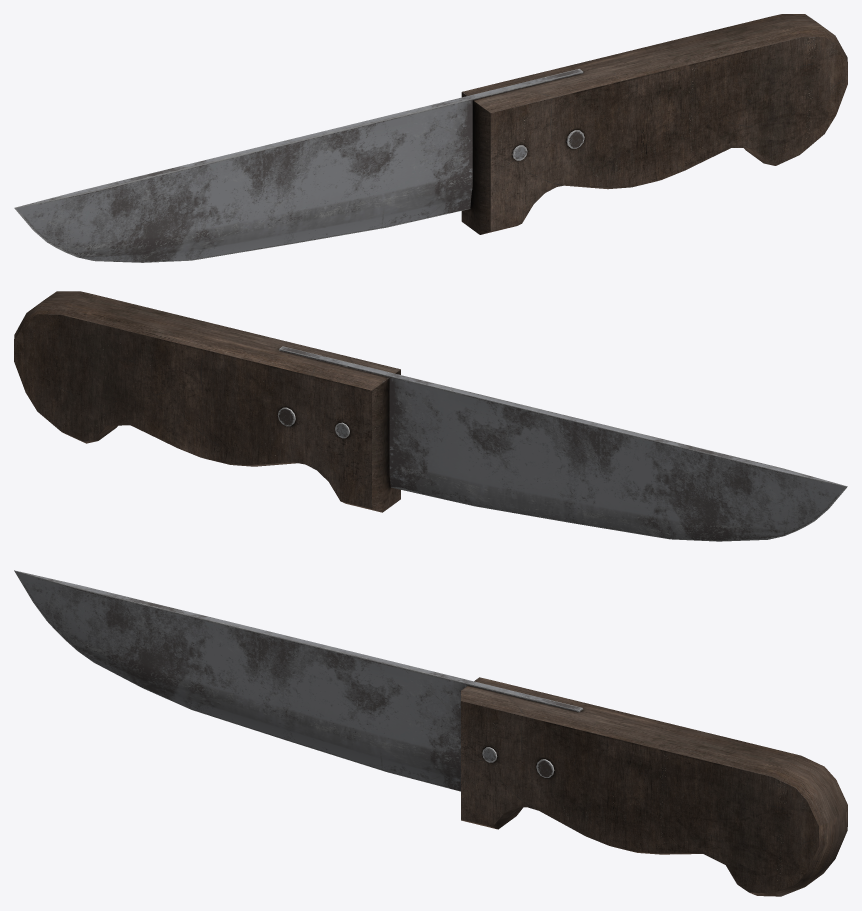
Rendered from Mes.fbx.
3 renders of one model, top to bottom at view 1: azimuth 30°, elevation 25°; view 2: azimuth 150°, elevation 25°; view 3: azimuth 330°, elevation 25°, orthographic.
Parts seen in each view (by area): view 1: Knife; view 2: Knife; view 3: Knife.
Boxes of the visible parts, <box> form: Knife: <box>14,14,847,262</box>; Knife: <box>14,291,847,541</box>; Knife: <box>14,570,847,896</box>.
Bounding box in the file's own units: 45.26 × 7.06 × 2.92.
1 material, 1 textured.
